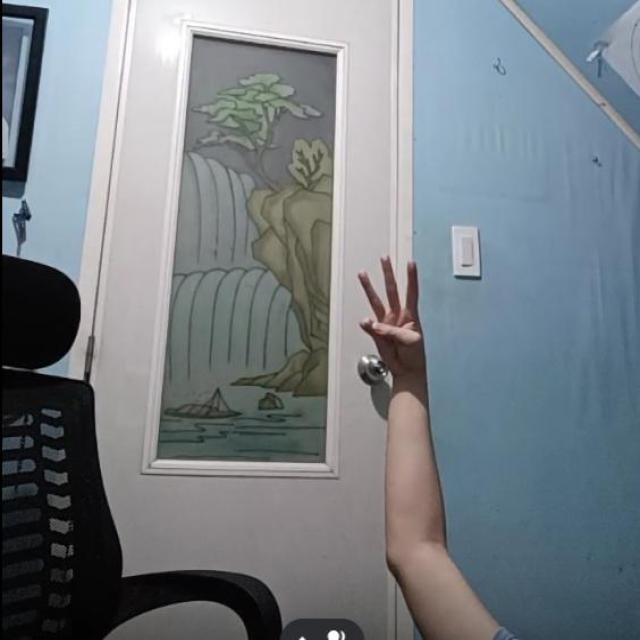W: (359, 251, 430, 369)
